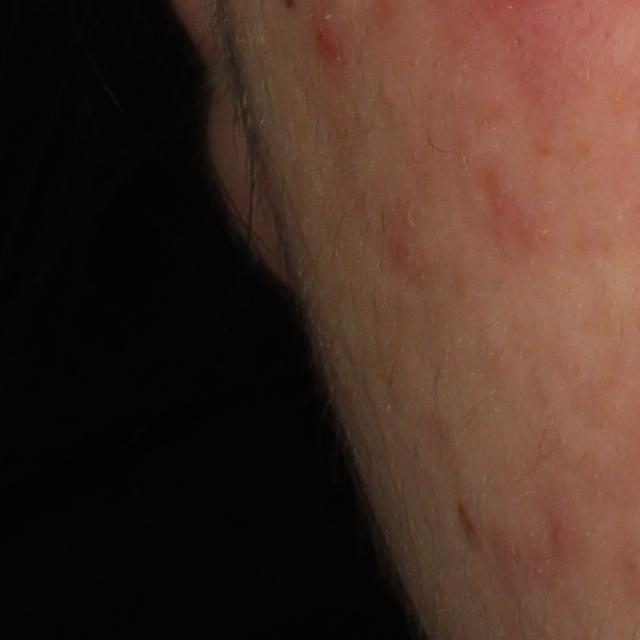papule: (389, 227, 427, 285), (310, 14, 348, 68), (549, 518, 573, 553)
